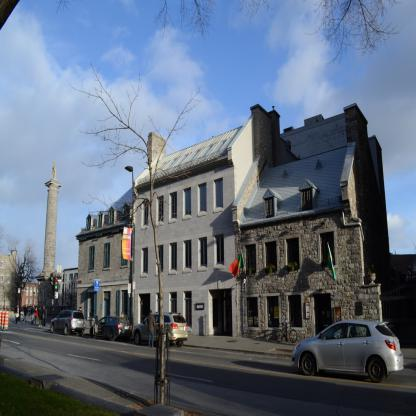car: (292, 315, 406, 383), (132, 311, 188, 350), (91, 317, 133, 343), (51, 311, 87, 337), (21, 311, 30, 319)
